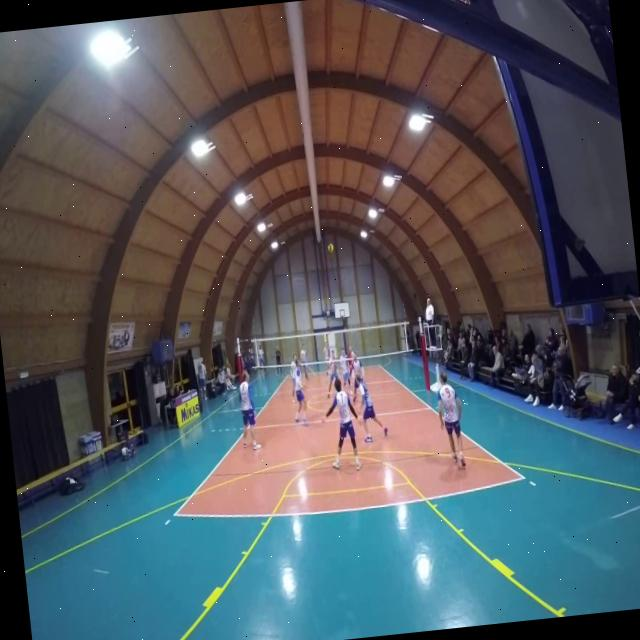Volleyball: (326, 240, 334, 256)
